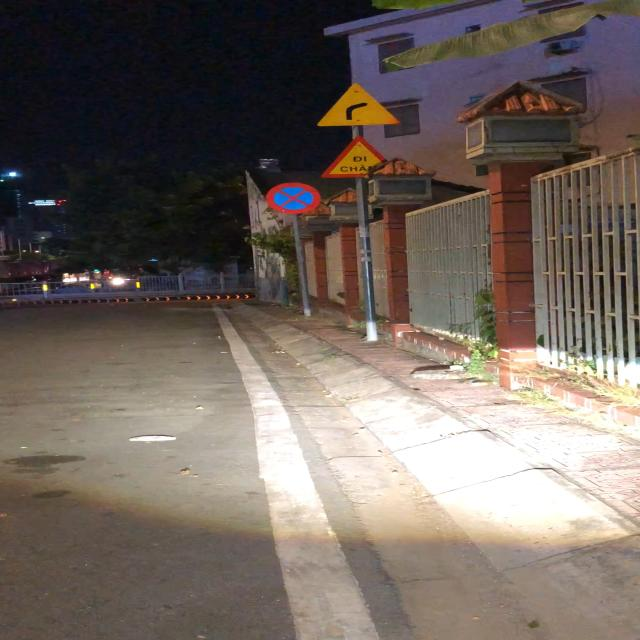Bien bao cam dung xe va do xe: (266, 181, 320, 215)
Bien bao cho ngoat nguy hiem: (314, 80, 403, 128)
Bien bao di cham: (313, 136, 398, 181)
